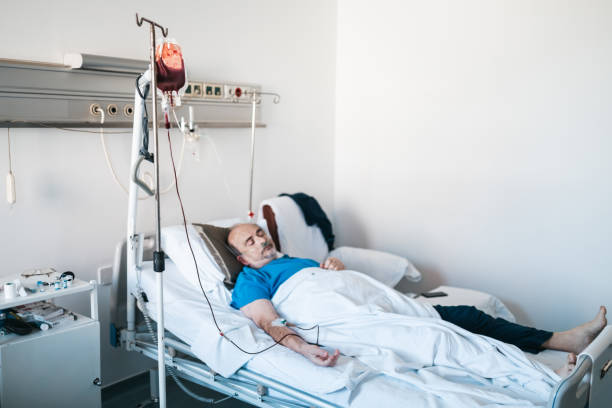bedside_table: (1, 270, 102, 408)
foot_board: (548, 320, 612, 408)
handle: (92, 375, 105, 390)
hospital_bed: (106, 191, 612, 408)
iv_pole: (121, 13, 201, 408), (231, 90, 280, 222)
patient: (226, 223, 612, 389)
